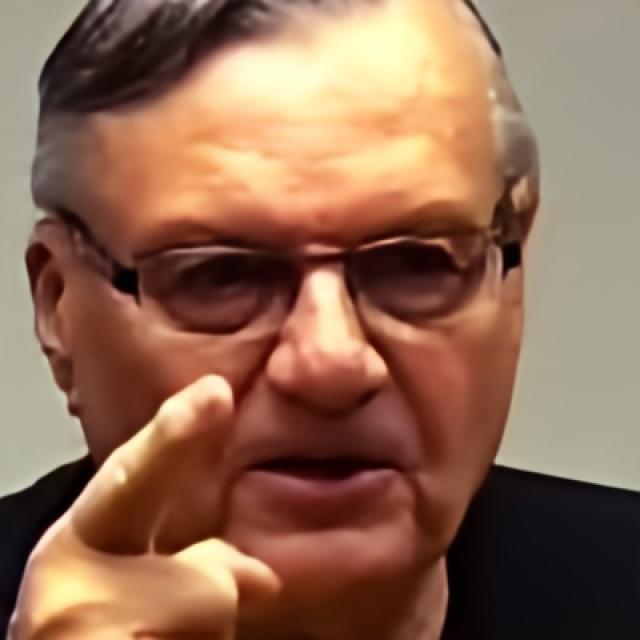anger: (86, 67, 520, 610)
